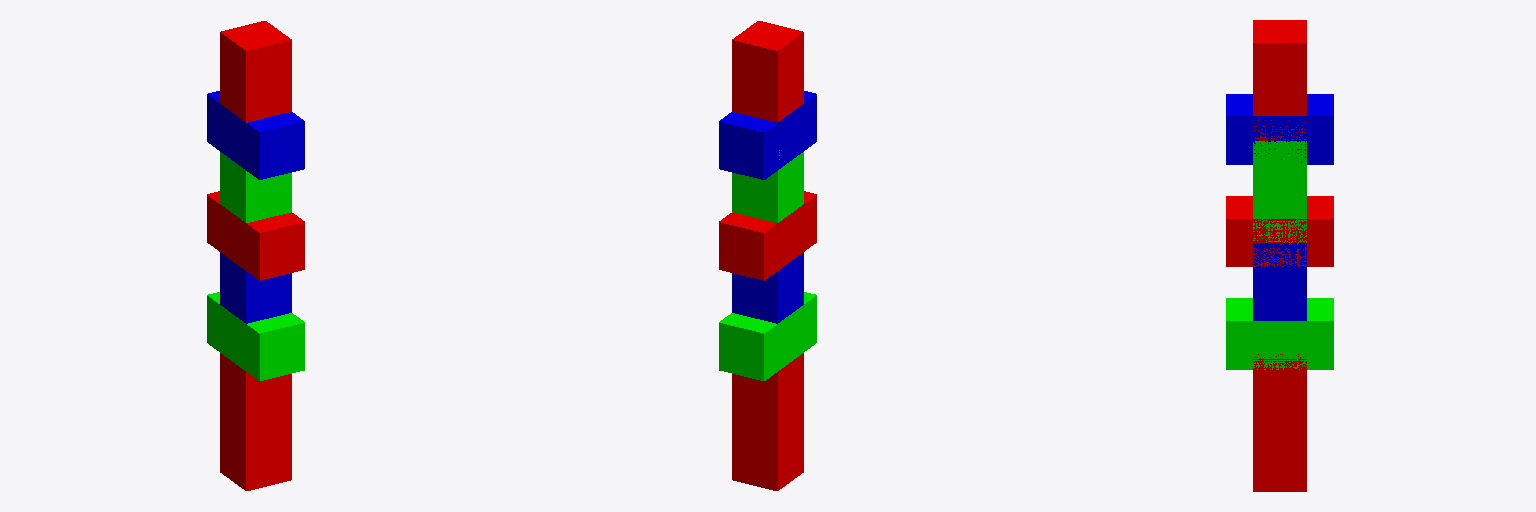
The robot description file, URDF, robot "6dofarm":
<?xml version="1.0" ?>
<robot name="6dofarm">

  <material name="red">
    <color rgba="1.0 0.0 0.0 1.0"/>
  </material>
  <material name="green">
    <color rgba="0.0 1.0 0.0 1.0"/>
  </material>
  <material name="blue">
    <color rgba="0.0 0.0 1.0 1.0"/>
  </material>

  <link name="base"/>
  <joint name="fixed" type="fixed">
    <parent link="base"/>
    <child link="link1"/>
  </joint>

  <!-- Link 1 -->
  <link name="link1">
    <collision>
      <origin rpy="0 0 0" xyz="0 0 0.075"/>
      <geometry>
        <box size="0.05 0.05 0.15"/>
      </geometry>
    </collision>
    <visual>
      <origin rpy="0 0 0" xyz="0 0 0.075"/>
      <geometry>
        <box size="0.05 0.05 0.15"/>
      </geometry>
      <material name="red"/>
    </visual>
    <inertial>
      <origin rpy="0 0 0" xyz="0 0 0.075"/>
      <mass value="1"/>
      <inertia ixx="1.0" ixy="0.0" ixz="0.0" iyy="1.0" iyz="0.0" izz="1.0"/>
    </inertial>
  </link>
  <joint name="joint1" type="revolute">
    <parent link="link1"/>
    <child link="link2"/>
    <origin rpy="0 0 0" xyz="0 0 0.15"/>
    <axis xyz="0 0 1"/>
    <limit effort="30" lower="-2.617" upper="2.617" velocity="1.571"/>
  </joint>

  <!-- Link 2 -->
  <link name="link2">
    <collision>
      <origin rpy="0 0 0" xyz="0 0 0.0"/>
      <geometry>
        <box size="0.05 0.1 0.05"/>
      </geometry>
    </collision>
    <visual>
      <origin rpy="0 0 0" xyz="0 0 0.0"/>
      <geometry>
        <box size="0.05 0.1 0.05"/>
      </geometry>
      <material name="green"/>
    </visual>
    <inertial>
      <origin rpy="0 0 0" xyz="0 0 0.0"/>
      <mass value="1"/>
      <inertia ixx="1.0" ixy="0.0" ixz="0.0" iyy="1.0" iyz="0.0" izz="1.0"/>
    </inertial>
  </link>
  <joint name="joint2" type="revolute">
    <parent link="link2"/>
    <child link="link3"/>
    <origin rpy="0 0 0" xyz="0 0 0.0"/>
    <axis xyz="0 1 0"/>
    <limit effort="30" lower="-2.617" upper="2.617" velocity="1.571"/>
  </joint>

  <!-- Link 3 -->
  <link name="link3">
    <collision>
      <origin rpy="0 0 0" xyz="0 0 0.0525"/>
      <geometry>
        <box size="0.05 0.05 0.105"/>
      </geometry>
    </collision>
    <visual>
      <origin rpy="0 0 0" xyz="0 0 0.0525"/>
      <geometry>
        <box size="0.05 0.05 0.105"/>
      </geometry>
      <material name="blue"/>
    </visual>
    <inertial>
      <origin rpy="0 0 0" xyz="0 0 0.0525"/>
      <mass value="1"/>
      <inertia ixx="1.0" ixy="0.0" ixz="0.0" iyy="1.0" iyz="0.0" izz="1.0"/>
    </inertial>
  </link>
  <joint name="joint3" type="revolute">
    <parent link="link3"/>
    <child link="link4"/>
    <origin rpy="0 0 0" xyz="0 0 0.105"/>
    <axis xyz="0 0 1"/>
    <limit effort="30" lower="-2.617" upper="2.617" velocity="1.571"/>
  </joint>

  <!-- Link 4 -->
  <link name="link4">
    <collision>
      <origin rpy="0 0 0" xyz="0 0 0.0"/>
      <geometry>
        <box size="0.1 0.1 1"/>
      </geometry>
    </collision>
    <visual>
      <origin rpy="0 0 0" xyz="0 0 0.0"/>
      <geometry>
        <box size="0.05 0.1 0.05"/>
      </geometry>
      <material name="red"/>
    </visual>
    <inertial>
      <origin rpy="0 0 0" xyz="0 0 0.0"/>
      <mass value="1"/>
      <inertia ixx="1.0" ixy="0.0" ixz="0.0" iyy="1.0" iyz="0.0" izz="1.0"/>
    </inertial>
  </link>
  <joint name="joint4" type="revolute">
    <parent link="link4"/>
    <child link="link5"/>
    <origin rpy="0 0 0" xyz="0 0 0.0"/>
    <axis xyz="0 1 0"/>
    <limit effort="30" lower="-2.617" upper="2.617" velocity="1.571"/>
  </joint>

  <!-- Link 5 -->
  <link name="link5">
    <collision>
      <origin rpy="0 0 0" xyz="0 0 0.0525"/>
      <geometry>
        <box size="0.05 0.05 0.105"/>
      </geometry>
    </collision>
    <visual>
      <origin rpy="0 0 0" xyz="0 0 0.0525"/>
      <geometry>
        <box size="0.05 0.05 0.105"/>
      </geometry>
      <material name="green"/>
    </visual>
    <inertial>
      <origin rpy="0 0 0" xyz="0 0 0.0525"/>
      <mass value="1"/>
      <inertia ixx="1.0" ixy="0.0" ixz="0.0" iyy="1.0" iyz="0.0" izz="1.0"/>
    </inertial>
  </link>
  <joint name="joint5" type="revolute">
    <parent link="link5"/>
    <child link="link6"/>
    <origin rpy="0 0 0" xyz="0 0 0.105"/>
    <axis xyz="0 1 0"/>
    <limit effort="30" lower="-2.617" upper="2.617" velocity="1.571"/>
  </joint>

  <!-- Link 6 -->
  <link name="link6">
    <collision>
      <origin rpy="0 0 0" xyz="0 0 0.0"/>
      <geometry>
        <box size="0.05 0.1 0.05"/>
      </geometry>
    </collision>
    <visual>
      <origin rpy="0 0 0" xyz="0 0 0.0"/>
      <geometry>
        <box size="0.05 0.1 0.05"/>
      </geometry>
      <material name="blue"/>
    </visual>
    <inertial>
      <origin rpy="0 0 0" xyz="0 0 0.0"/>
      <mass value="1"/>
      <inertia ixx="1.0" ixy="0.0" ixz="0.0" iyy="1.0" iyz="0.0" izz="1.0"/>
    </inertial>
  </link>
  <joint name="joint6" type="revolute">
    <parent link="link6"/>
    <child link="link7"/>
    <origin rpy="0 0 0" xyz="0 0 0.0"/>
    <axis xyz="0 0 1"/>
    <limit effort="30" lower="-2.617" upper="2.617" velocity="1.571"/>
  </joint>


  <!-- Link 7 (end effector)-->
  <link name="link7">
    <collision>
      <origin rpy="0 0 0" xyz="0 0 0.05"/>
      <geometry>
        <box size="0.05 0.05 0.1"/>
      </geometry>
    </collision>
    <visual>
      <origin rpy="0 0 0" xyz="0 0 0.05"/>
      <geometry>
        <box size="0.05 0.05 0.1"/>
      </geometry>
      <material name="red"/>
    </visual>
    <inertial>
      <origin rpy="0 0 0" xyz="0 0 0.05"/>
      <mass value="1"/>
      <inertia ixx="1.0" ixy="0.0" ixz="0.0" iyy="1.0" iyz="0.0" izz="1.0"/>
    </inertial>
  </link>
</robot>

--- Facts derived from the render (not from the file) ---
Views: 3 orthographic renders of the robot side by side, from view 1: azimuth 30°, elevation 25°; view 2: azimuth 150°, elevation 25°; view 3: azimuth 270°, elevation 25°.
Robot: 6dofarm — 8 links, 7 joints (6 revolute, 1 fixed); root link base; default pose: every joint at zero.
Visible links, largest first — view 1: link1, link7, link2, link4, link6, link3, link5; view 2: link1, link7, link2, link4, link6, link5, link3; view 3: link1, link2, link7, link6, link4, link5, link3.
Boxes of the visible links, <box> form: link1: <box>220,353,291,490</box>; link7: <box>220,21,291,122</box>; link2: <box>207,292,304,380</box>; link4: <box>207,191,304,280</box>; link6: <box>207,91,304,179</box>; link3: <box>220,252,291,323</box>; link5: <box>220,152,291,222</box>; link1: <box>732,353,803,490</box>; link7: <box>732,21,803,122</box>; link2: <box>719,292,816,380</box>; link4: <box>719,191,816,280</box>; link6: <box>719,91,816,179</box>; link5: <box>732,150,803,222</box>; link3: <box>732,252,803,323</box>; link1: <box>1253,354,1306,491</box>; link2: <box>1226,298,1333,369</box>; link7: <box>1253,20,1306,140</box>; link6: <box>1226,94,1333,164</box>; link4: <box>1226,196,1333,266</box>; link5: <box>1253,141,1306,242</box>; link3: <box>1253,243,1306,320</box>.
Bounding box of the posed robot: 0.05 × 0.1 × 0.46 m (x, y, z).
Geometry: primitives only (box / cylinder / sphere), no mesh files.